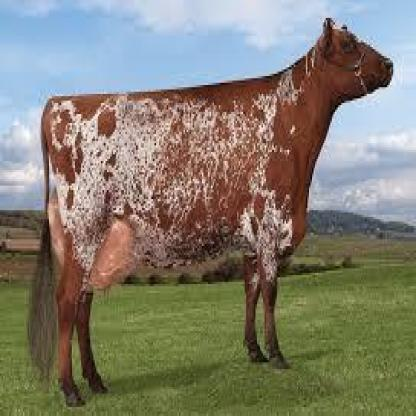cow: (28, 17, 394, 406)
